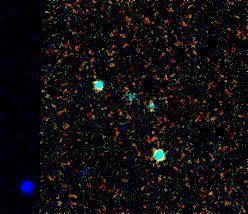star: (76, 159, 106, 189)
